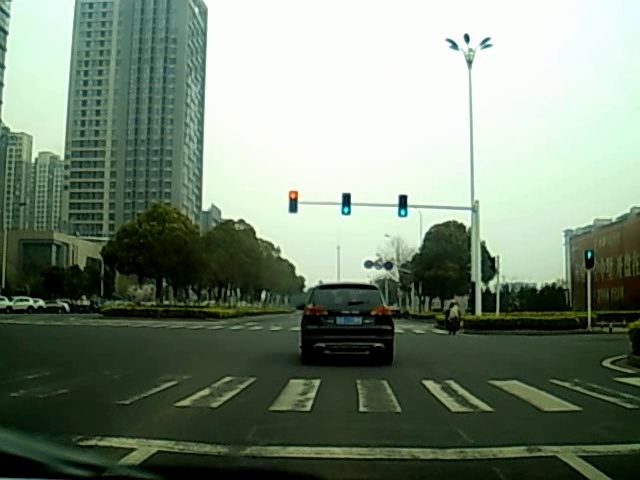Traffic_Light_go: (397, 194, 407, 219), (343, 193, 352, 214)
Traffic_Light_stop: (288, 189, 299, 213)
